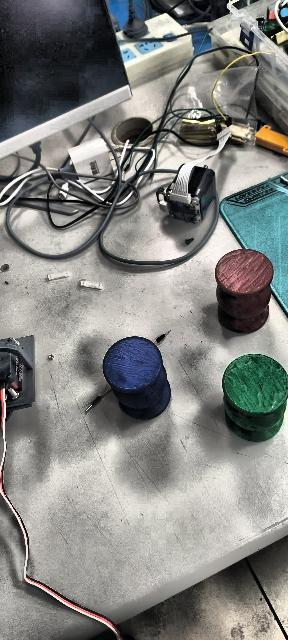blue: (101, 336, 170, 420)
green: (223, 353, 288, 440)
red: (207, 250, 272, 333)
